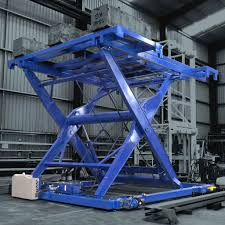Scissor Lift: (7, 24, 219, 211)
